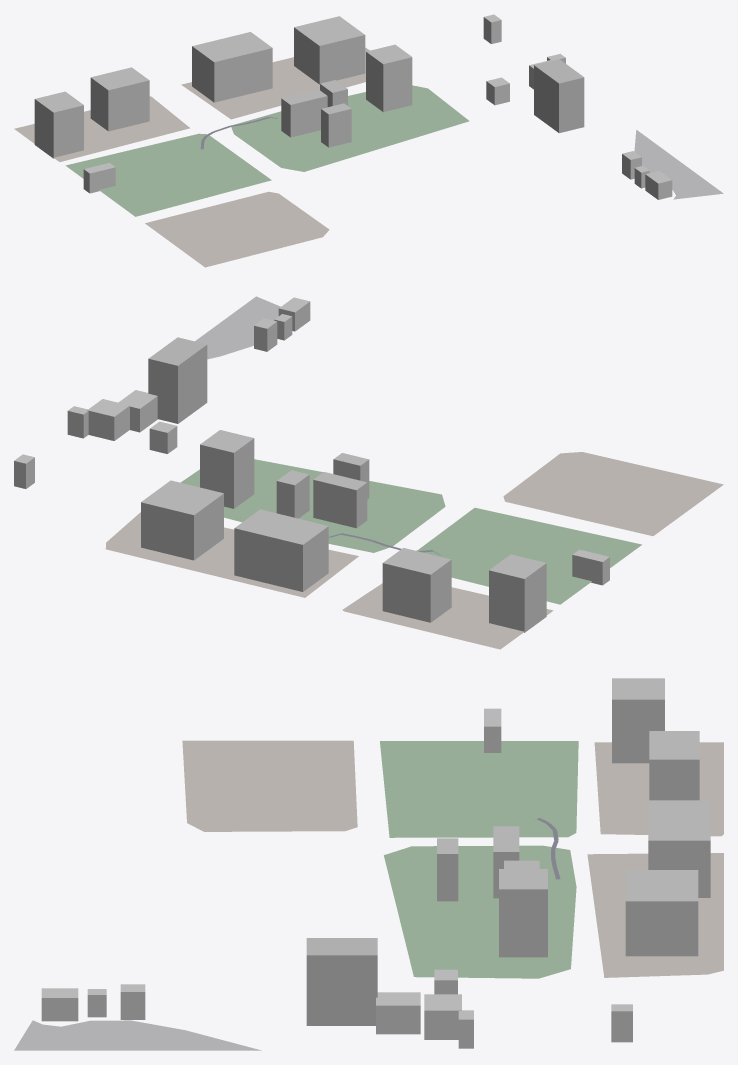
The model's file is 124_84_mid.glb.
The picture shows the model from 3 angles, top to bottom: view 1: azimuth 30°, elevation 25°; view 2: azimuth 150°, elevation 25°; view 3: azimuth 270°, elevation 25°; orthographic projection. The views are drawn at different scales.
Bounding box in the file's own units: 510 × 59.22 × 472.
